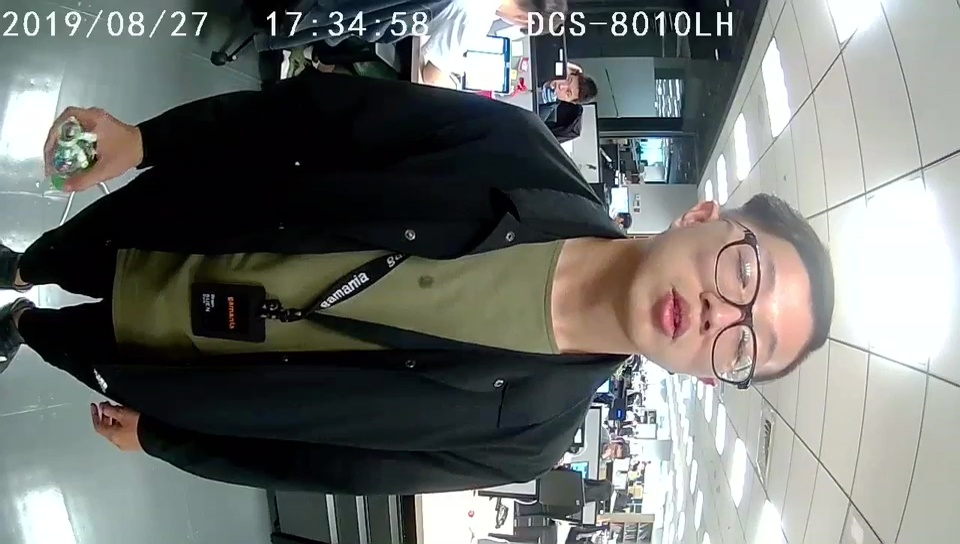buzz: (44, 113, 100, 189)
